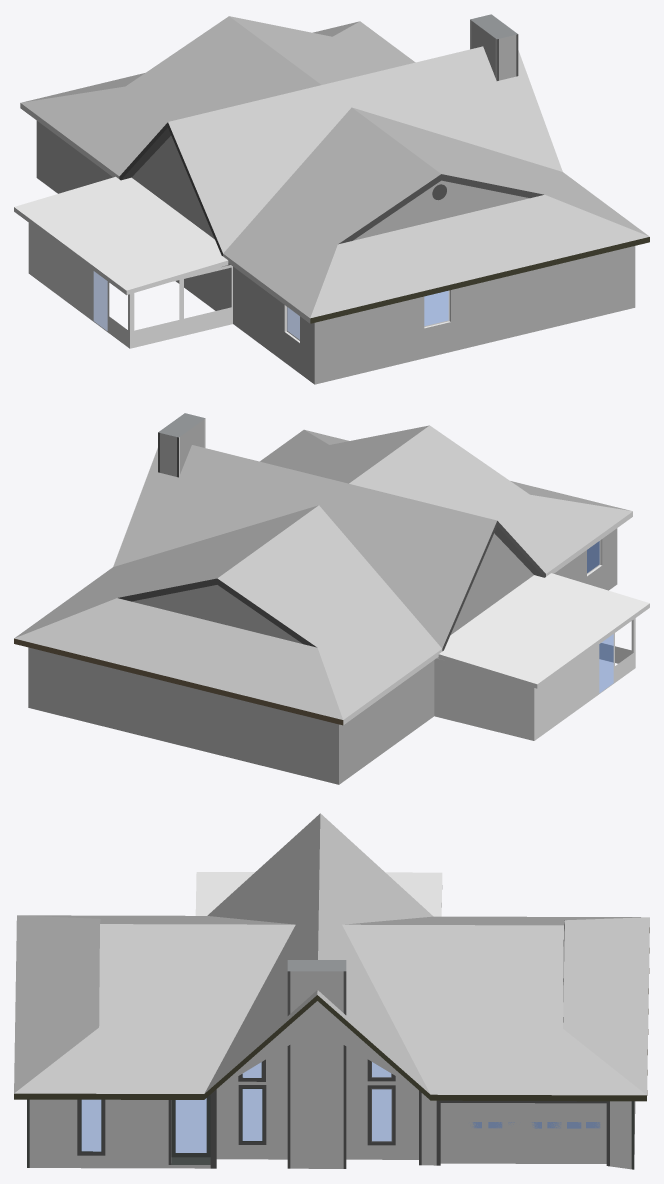
The model's file is Betty'sHouseDark2.obj.
The picture shows the model from 3 angles, top to bottom: view 1: azimuth 30°, elevation 25°; view 2: azimuth 150°, elevation 25°; view 3: azimuth 270°, elevation 25°; orthographic projection. The views are drawn at different scales.
Parts seen in each view (by area): view 1: Mesh29 Model, Mesh13 Group3_1_1 Model, Mesh23 Group7_1_2 Model; view 2: Mesh29 Model, Mesh13 Group3_1_1 Model; view 3: Mesh29 Model, Mesh7 Group1_1_1 Model, Mesh3 Group2_1_1 Model, Mesh17 Group4_1_2 Model, Mesh1 Group4_1_1 Model, Mesh21 Group4_1_3 Model.
Boxes of the visible parts, x1,y1,x2,y2 form: Mesh29 Model: (14, 14, 649, 384); Mesh13 Group3_1_1 Model: (93, 271, 107, 330); Mesh23 Group7_1_2 Model: (424, 291, 448, 325); Mesh29 Model: (14, 413, 649, 784); Mesh13 Group3_1_1 Model: (599, 634, 613, 692); Mesh29 Model: (14, 813, 649, 1169); Mesh7 Group1_1_1 Model: (440, 1103, 606, 1163); Mesh3 Group2_1_1 Model: (175, 1098, 206, 1152); Mesh17 Group4_1_2 Model: (81, 1099, 101, 1151); Mesh1 Group4_1_1 Model: (242, 1089, 262, 1140); Mesh21 Group4_1_3 Model: (372, 1089, 391, 1141).
Bounding box in the file's own units: 644 × 255 × 740.
